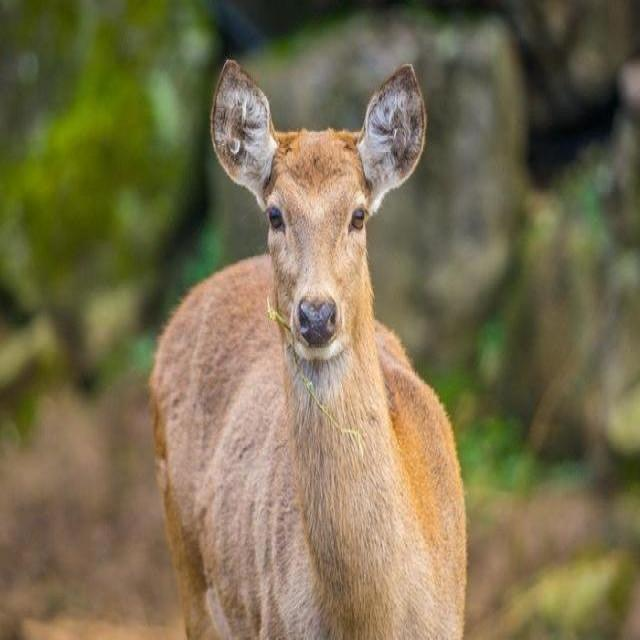deer: (132, 57, 486, 640)
